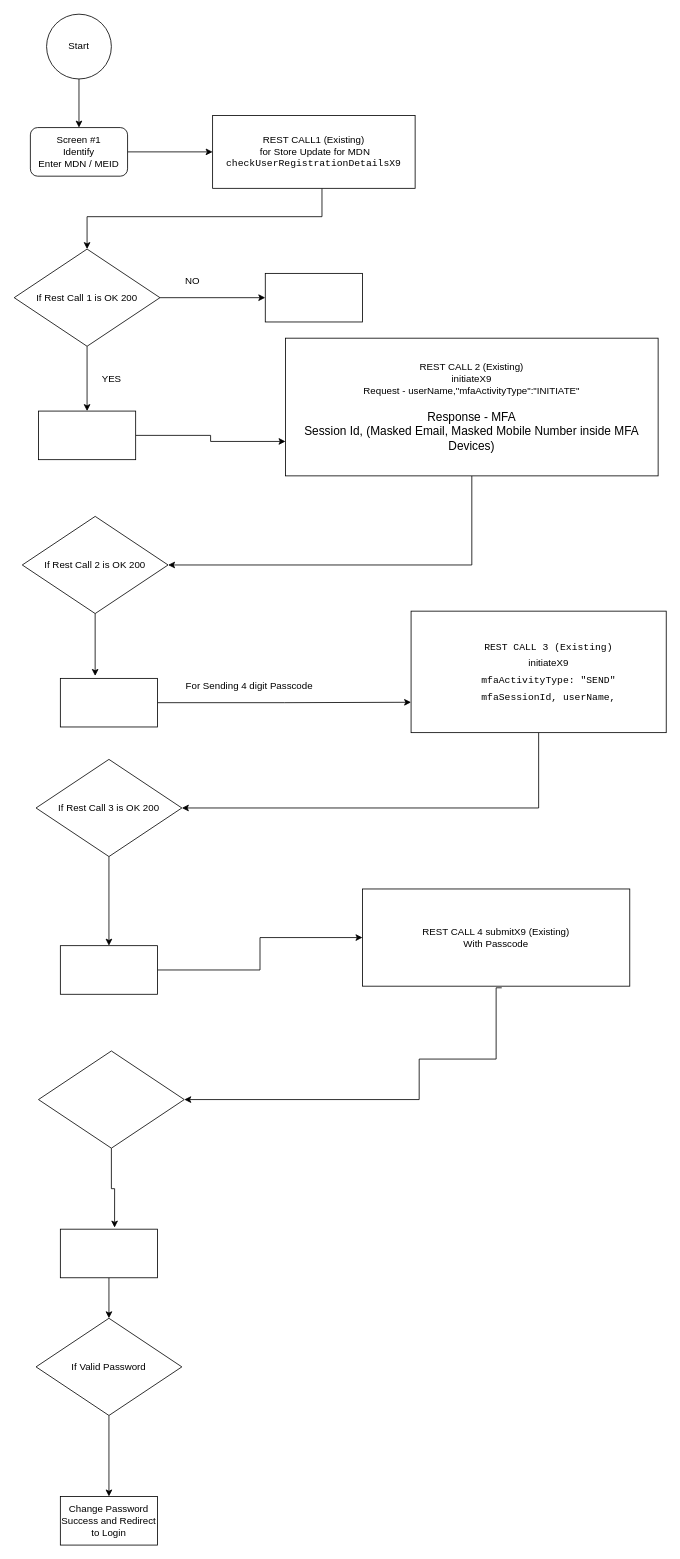
Some shapes in this 680 by 1559 pixel diagram are drawn without their labels. Each missing label, with the centre of its shape:
"BE ERROR" belongs at point 313,297.
"If Rest Call 4 is OK 200" belongs at point 111,1099.
"Screen #2 Enter Username" belongs at point 87,435.
"Screen #3 MFA With Passcode Input" belongs at point 109,969.
"Screen #3 MFA Without Passcode Input" belongs at point 109,702.
"Screen 4 Create Password" belongs at point 109,1253.
